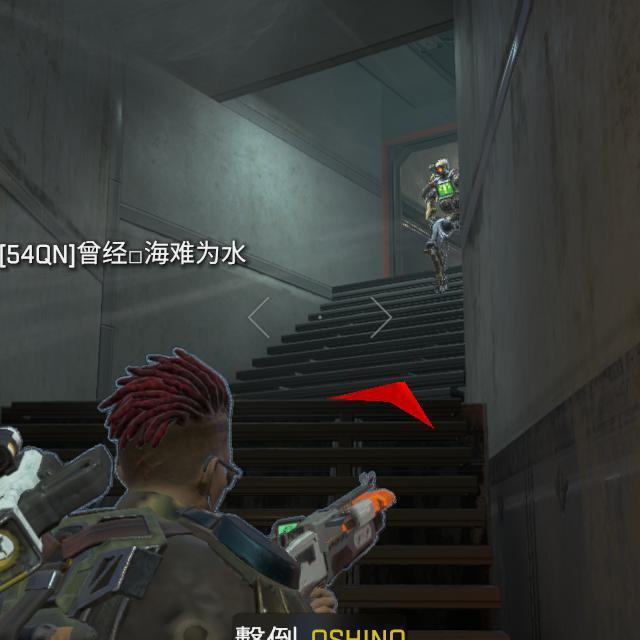avatar: (0, 348, 397, 640), (419, 156, 462, 293)
